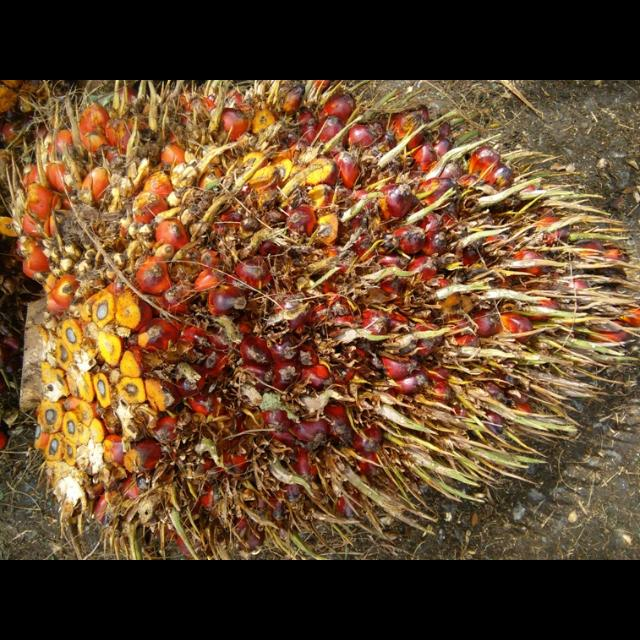Ripe: (13, 80, 629, 555)
